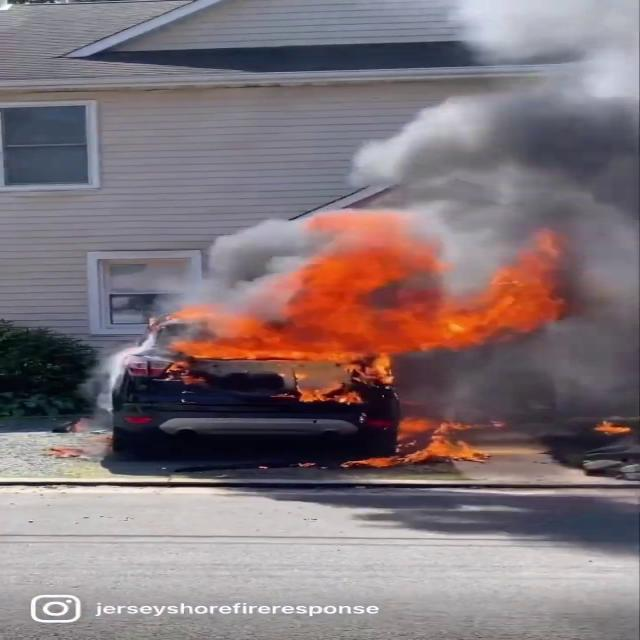Fire: (154, 218, 582, 400), (356, 413, 486, 473)
Smoke: (370, 0, 640, 232), (403, 304, 640, 436)
